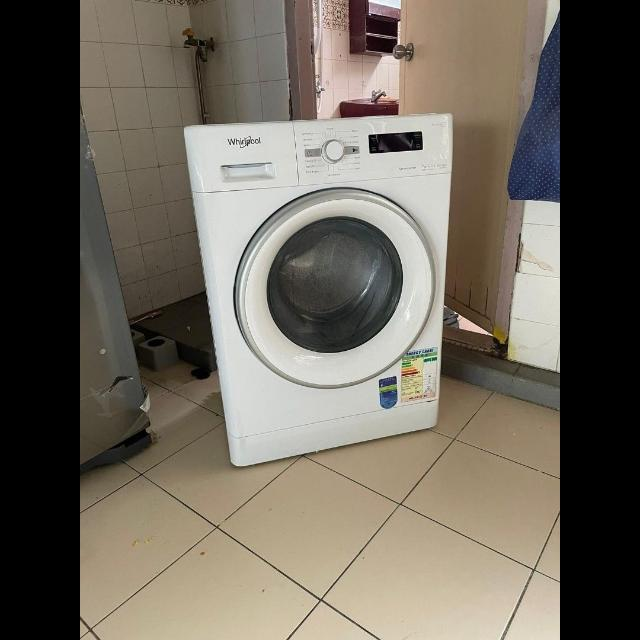Washing-Machine: (180, 113, 448, 461)
